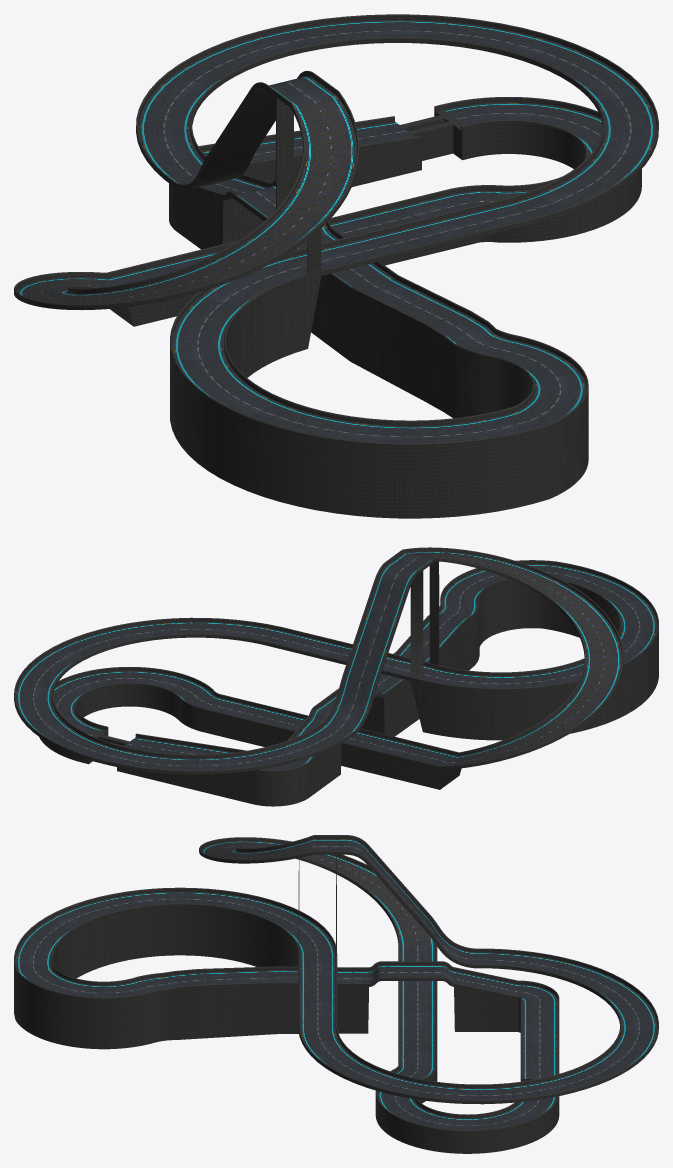
Rendered from track.obj.
3 renders of one model, top to bottom at view 1: azimuth 30°, elevation 25°; view 2: azimuth 150°, elevation 25°; view 3: azimuth 270°, elevation 25°, orthographic. The views are drawn at different scales.
Bounding box in the file's own units: 24000 × 8104 × 27648.
